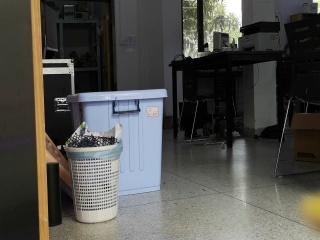room: (4, 4, 320, 236)
